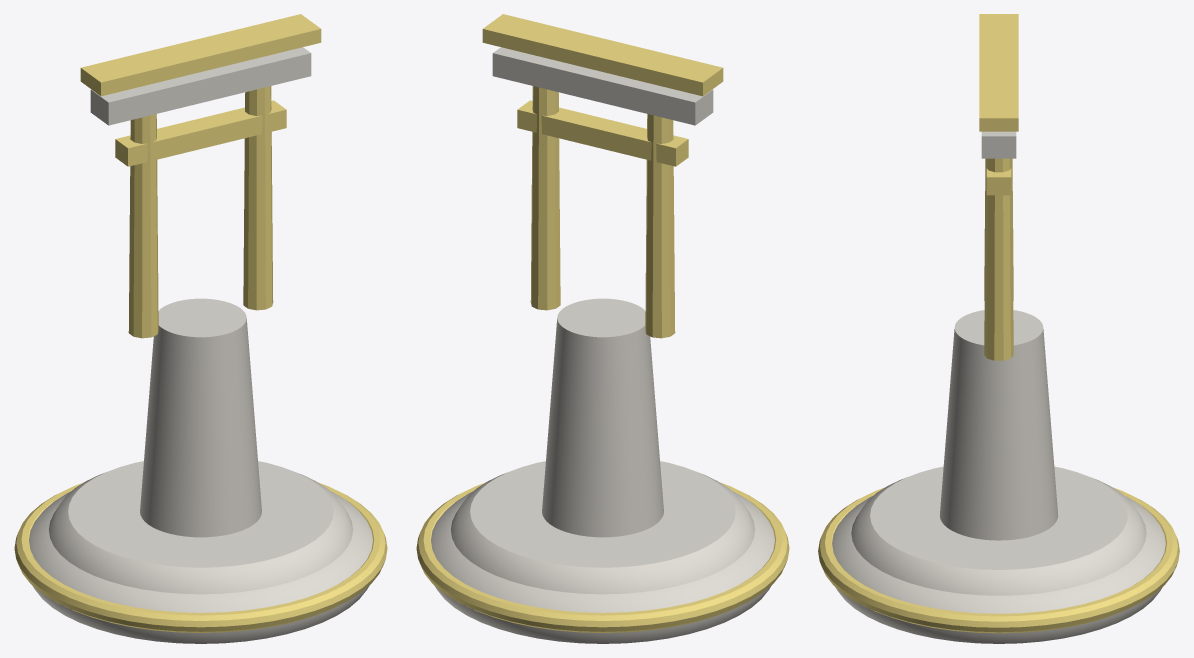
Rendered from Kioto_Alfil.fbx.
3 renders of one model, left to right at view 1: azimuth 30°, elevation 25°; view 2: azimuth 150°, elevation 25°; view 3: azimuth 270°, elevation 25°, orthographic. The views are drawn at different scales.
Visible parts, largest first — view 1: Kioto_Alfil; view 2: Kioto_Alfil; view 3: Kioto_Alfil.
Part boxes in pixels (<box>): Kioto_Alfil: <box>14,14,387,643</box>; Kioto_Alfil: <box>416,14,789,643</box>; Kioto_Alfil: <box>818,14,1179,643</box>.
Size of the model in its own units: 0.7335 by 1.13 by 0.7335.
